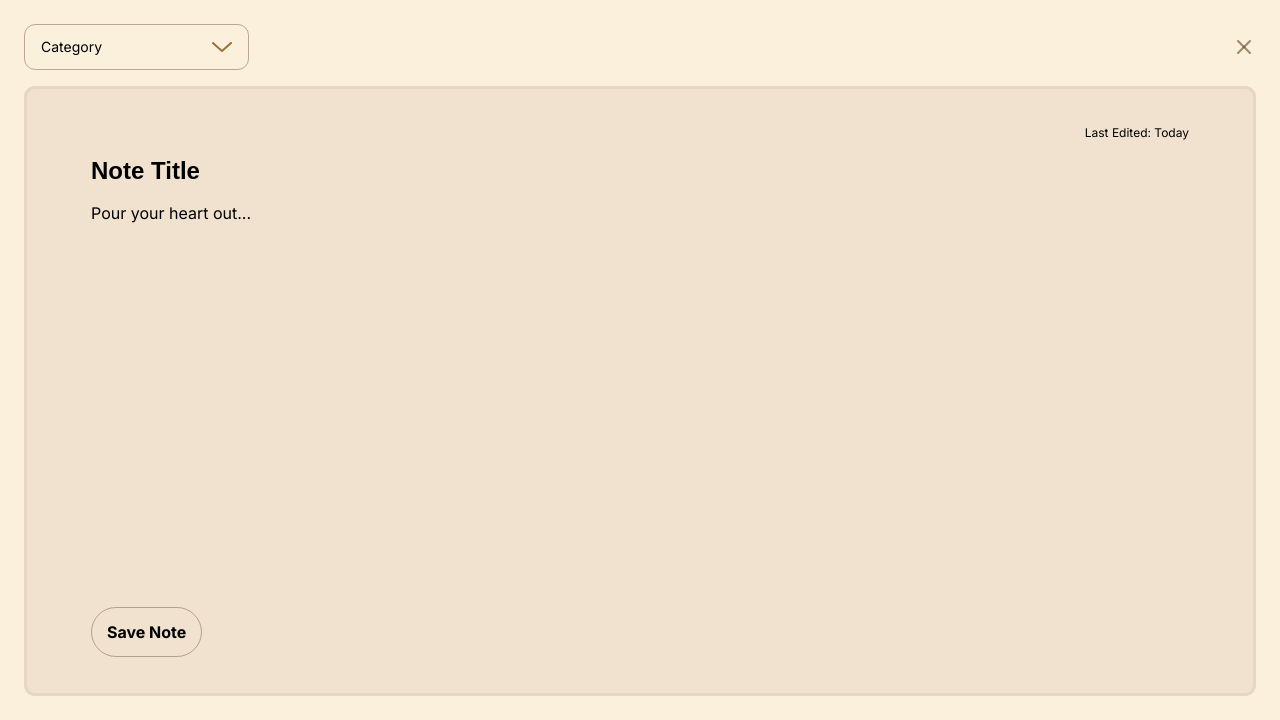
Test: NoteModal › shows validation error when no category selected
This screenshot has width=1280, height=720.
Type "My Note" into the field with placeholder "Note Title" at (640, 171), box [91,157,1189,185]
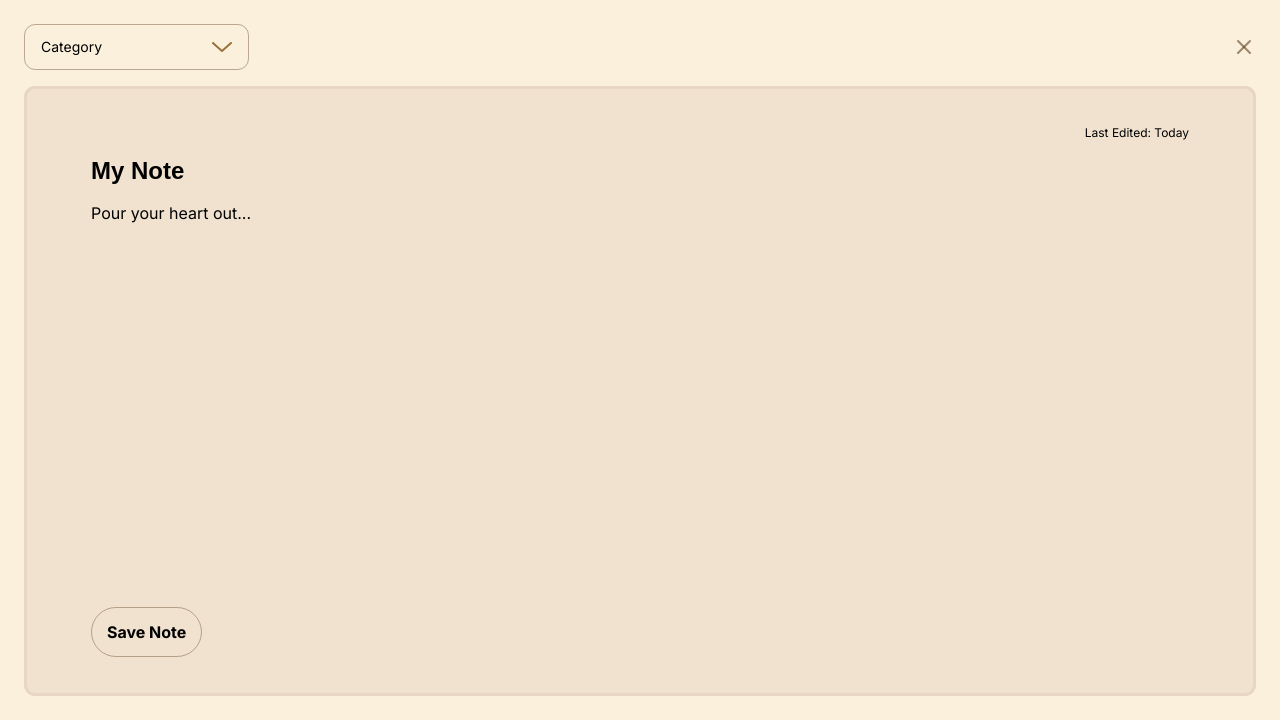
Click the button "Save Note" at (147, 632), box [91,607,202,657]
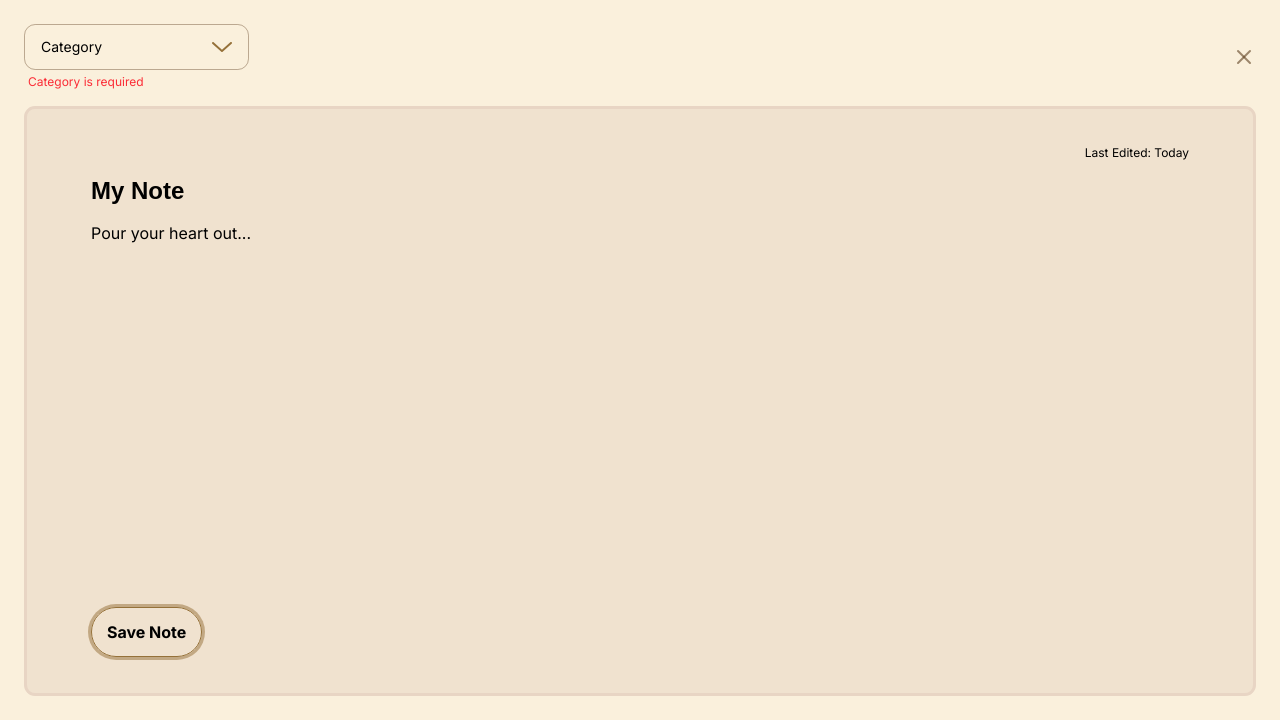
Check: the text "Category is required" is shown, box [28,74,144,89]
